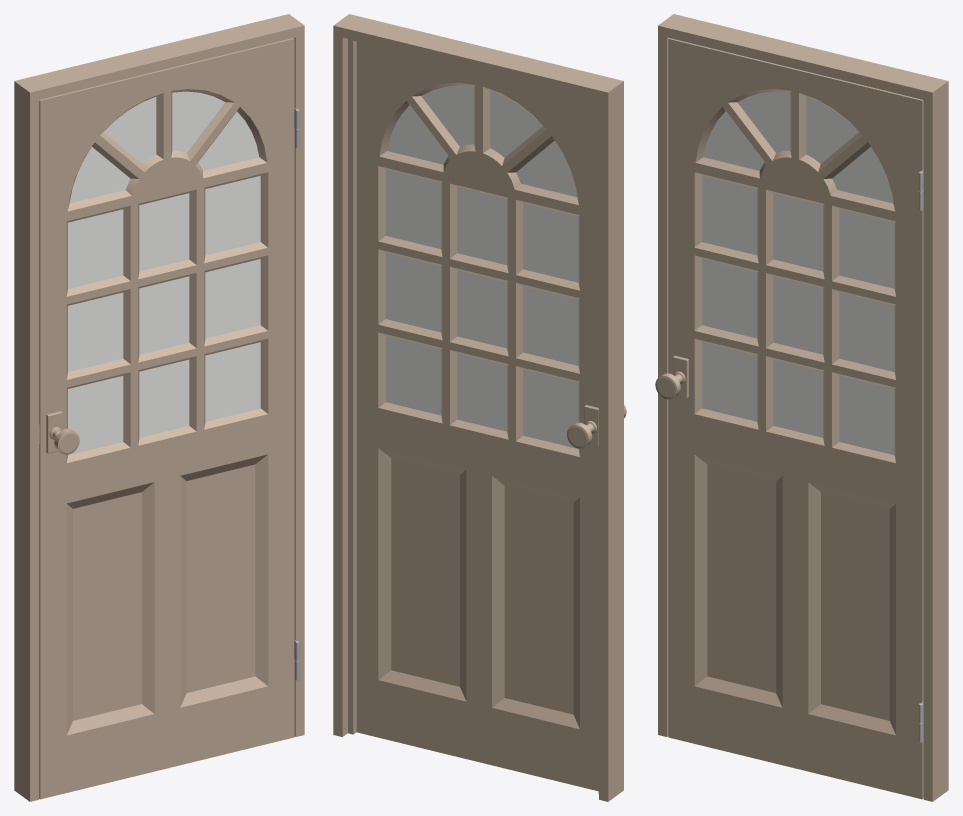
3 renders of one model, left to right at view 1: azimuth 30°, elevation 25°; view 2: azimuth 150°, elevation 25°; view 3: azimuth 330°, elevation 25°, orthographic.
Parts seen in each view (by area): view 1: 戸, ドア枠; view 2: 戸, ドア枠; view 3: 戸, ドア枠.
Boxes of the visible parts, x1=… form: 戸: x1=39, y1=38, x2=299, y2=799; ドア枠: x1=14, y1=14, x2=304, y2=801; 戸: x1=356, y1=41, x2=626, y2=791; ドア枠: x1=333, y1=14, x2=623, y2=801; 戸: x1=655, y1=38, x2=923, y2=799; ドア枠: x1=658, y1=14, x2=948, y2=801.
Bounding box in the file's own units: 0.75 × 1.85 × 0.181.
